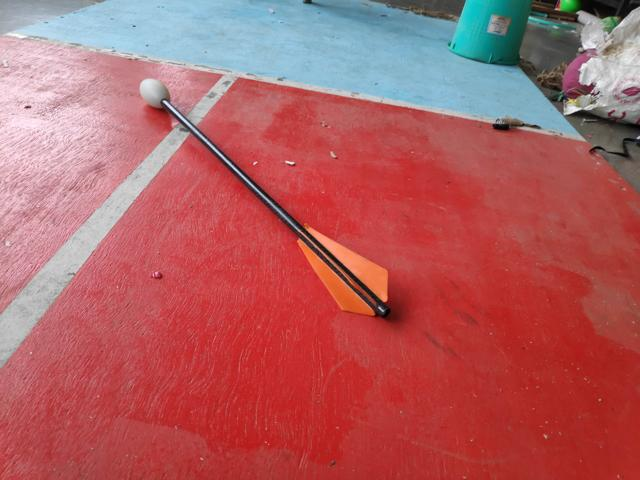Head: (138, 74, 173, 112)
Tail: (293, 221, 394, 320)
